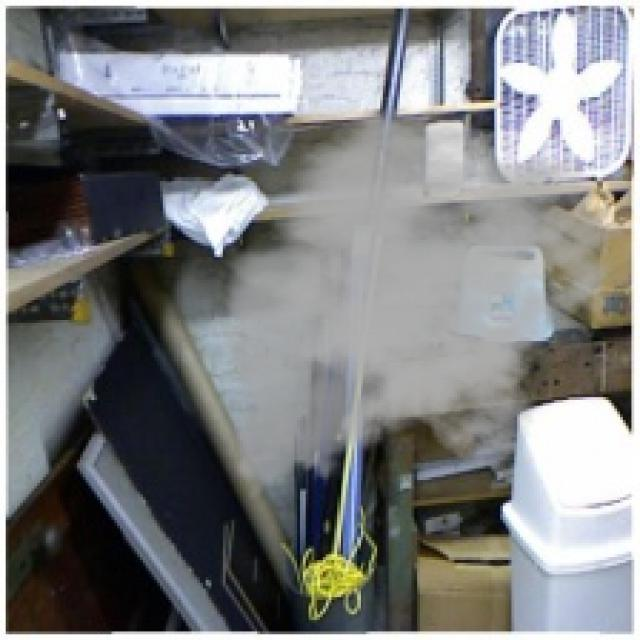Smoke: (208, 106, 628, 506)
